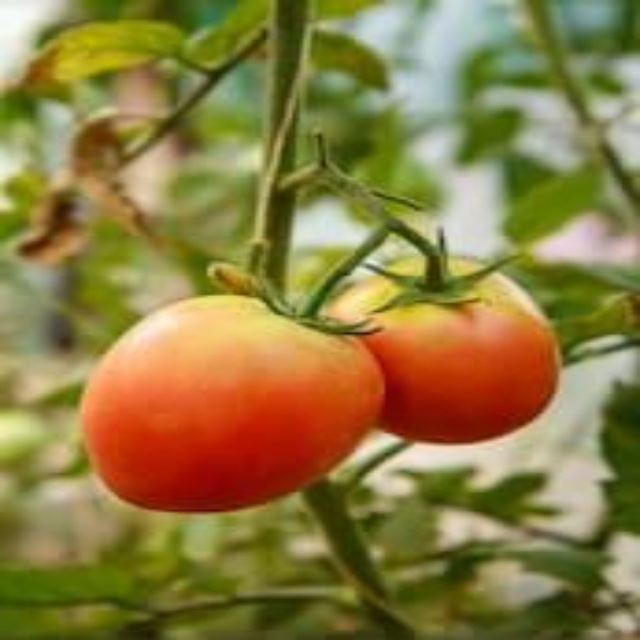tomato: (82, 300, 383, 512), (341, 248, 575, 454)
